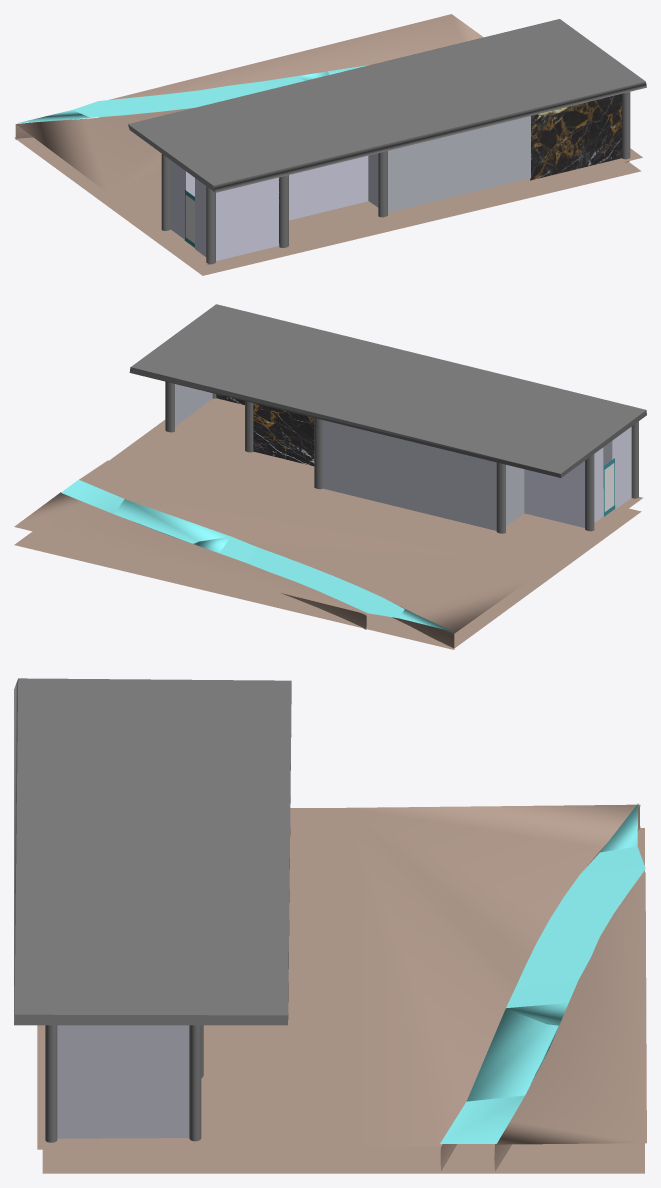
The model's file is pavillion.glb.
3 views of the same model, one above another, from view 1: azimuth 30°, elevation 25°; view 2: azimuth 150°, elevation 25°; view 3: azimuth 270°, elevation 25° (orthographic). The views are drawn at different scales.
Visible parts, largest first — view 1: Pavillion Roof, Wall.002, Outdoor Baseplate, Outdoor Concrete Floor 2, Outdoor Concrete Floor 1, Wall.003, Outdoor Conrete FLoor 3, Bathroom Wall 3, Outdoor Water Surface, Wall.006, Bathroom Wall 4, Bathroom Wall 6 (+7 smaller); view 2: Pavillion Roof, Outdoor Concrete Floor 1, Outdoor Conrete FLoor 3, Wall, Outdoor Concrete Floor 2, Outdoor Baseplate, Outdoor Water Surface, Wall.008, Bathroom Wall 1, Bathroom Wall 6, Wall.001, Wall.005 (+7 smaller); view 3: Pavillion Roof, Outdoor Concrete Floor 1, Outdoor Conrete FLoor 3, Outdoor Concrete Floor 2, Outdoor Water Surface, Outdoor Baseplate, Wall.005, Cylinder.001, Cylinder.
Boxes of the visible parts, x1,y1,x2,y2 form: Pavillion Roof: (128, 19, 646, 192); Wall.002: (388, 116, 530, 212); Outdoor Baseplate: (14, 108, 641, 275); Outdoor Concrete Floor 2: (109, 14, 483, 99); Outdoor Concrete Floor 1: (15, 108, 191, 193); Wall.003: (530, 94, 621, 180); Outdoor Conrete FLoor 3: (97, 148, 642, 264); Bathroom Wall 3: (216, 177, 278, 260); Outdoor Water Surface: (17, 65, 368, 123); Wall.006: (289, 156, 368, 220); Bathroom Wall 4: (171, 160, 185, 239); Bathroom Wall 6: (195, 178, 206, 256); Pavillion Roof: (129, 304, 646, 477); Outdoor Concrete Floor 1: (79, 460, 546, 649); Outdoor Conrete FLoor 3: (109, 398, 643, 576); Wall: (323, 420, 496, 530); Outdoor Concrete Floor 2: (14, 492, 366, 629); Outdoor Baseplate: (14, 476, 641, 649); Outdoor Water Surface: (61, 479, 452, 631); Wall.008: (253, 403, 314, 466); Bathroom Wall 1: (524, 461, 584, 527); Bathroom Wall 6: (616, 427, 631, 508); Wall.001: (506, 464, 524, 526); Wall.005: (175, 384, 212, 426); Pavillion Roof: (14, 678, 291, 1025); Outdoor Concrete Floor 1: (343, 804, 640, 1170); Outdoor Conrete FLoor 3: (37, 808, 380, 1149); Outdoor Concrete Floor 2: (494, 872, 646, 1171); Outdoor Water Surface: (440, 803, 645, 1143); Outdoor Baseplate: (42, 828, 644, 1173); Wall.005: (57, 1025, 189, 1138); Cylinder.001: (45, 1025, 57, 1142); Cylinder: (189, 1025, 201, 1141).
Bounding box in the file's own units: 134 × 28.53 × 105.
13 materials, 2 textured.
